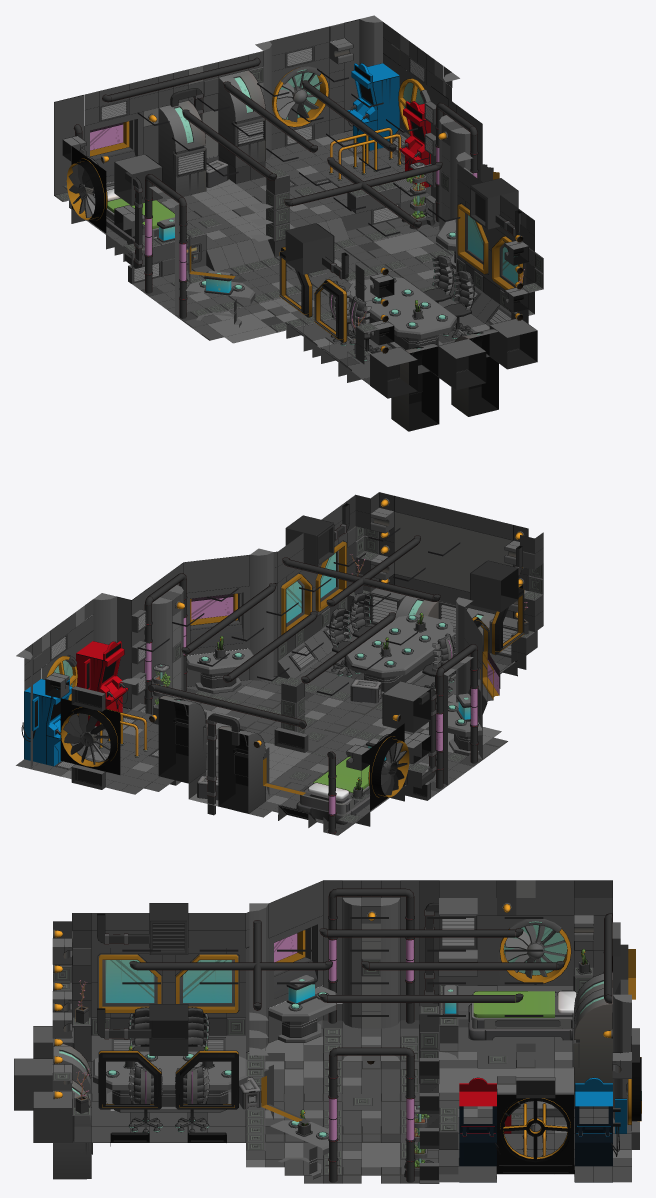
3 renders of one model, top to bottom at view 1: azimuth 30°, elevation 25°; view 2: azimuth 150°, elevation 25°; view 3: azimuth 270°, elevation 25°, orthographic. The views are drawn at different scales.
Parts seen in each view (by area): view 1: Ventilation1.010_108, Ventilation1.011_191, ArcadeBlue.004_229, Ventilation1.012_461, WIndow4.006_56, WIndow2.009_868, Ventilation2.031_463, Ventilation2.032_477, Ventilation2.029_437, Ventilation1.013_462, WIndow3.009_412, Ventilation2.033_478 (+33 smaller); view 2: Tile11.440_759, Ventilation1.011_191, Ventilation1.010_108, WIndow4.008_381, ArcadeBlue.004_229, ArcadeRed.002_230, Bed.003_5, WIndow2.009_868, Ventilation2.029_437, Tile10.210_383, Ventilation2.002_123, Tile11.442_761 (+43 smaller); view 3: Bed.003_5, WIndow3.006_409, WIndow3.008_411, WIndow2.010_870, ArcadeBlue.004_229, WIndow1.004_307, Ventilation1.011_191, WIndow4.009_384, ArcadeRed.002_230, Column.069_482, Column.068_481, Ventilation2.032_477 (+69 smaller).
Part boxes in pixels (left/top/right/bottom): Ventilation1.010_108: left=158, top=100, right=206, bottom=196; Ventilation1.011_191: left=218, top=70, right=265, bottom=168; ArcadeBlue.004_229: left=347, top=63, right=399, bottom=150; Ventilation1.012_461: left=391, top=343, right=439, bottom=431; WIndow4.006_56: left=84, top=111, right=143, bottom=182; WIndow2.009_868: left=272, top=57, right=329, bottom=133; Ventilation2.031_463: left=438, top=338, right=486, bottom=390; Ventilation2.032_477: left=489, top=318, right=537, bottom=369; Ventilation2.029_437: left=285, top=223, right=334, bottom=274; Ventilation1.013_462: left=451, top=329, right=498, bottom=416; WIndow3.009_412: left=457, top=195, right=491, bottom=282; Ventilation2.033_478: left=370, top=347, right=417, bottom=398; Tile11.440_759: left=394, top=511, right=513, bottom=592; Ventilation1.011_191: left=158, top=695, right=206, bottom=783; Ventilation1.010_108: left=218, top=726, right=265, bottom=813; WIndow4.008_381: left=186, top=586, right=249, bottom=655; ArcadeBlue.004_229: left=21, top=679, right=72, bottom=766; ArcadeRed.002_230: left=76, top=641, right=128, bottom=726; Bed.003_5: left=296, top=756, right=369, bottom=824; WIndow2.009_868: left=60, top=698, right=120, bottom=774; Ventilation2.029_437: left=470, top=560, right=518, bottom=612; Tile10.210_383: left=183, top=554, right=249, bottom=592; Ventilation2.002_123: left=382, top=681, right=430, bottom=732; Tile11.442_761: left=394, top=495, right=513, bottom=540; Bed.003_5: left=468, top=990, right=577, bottom=1040; WIndow3.006_409: left=91, top=948, right=168, bottom=1017; WIndow3.008_411: left=168, top=948, right=245, bottom=1017; WIndow2.010_870: left=497, top=915, right=574, bottom=985; ArcadeBlue.004_229: left=575, top=1077, right=626, bottom=1182; WIndow1.004_307: left=497, top=1094, right=574, bottom=1164; Ventilation1.011_191: left=572, top=987, right=612, bottom=1091; WIndow4.009_384: left=268, top=915, right=323, bottom=1007; ArcadeRed.002_230: left=459, top=1077, right=511, bottom=1182; Column.069_482: left=342, top=898, right=361, bottom=1028; Column.068_481: left=381, top=898, right=400, bottom=1028; Ventilation2.032_477: left=33, top=1091, right=74, bottom=1142.
Bounding box in the file's own units: 8.72 × 3.93 × 11.61.
1 material, 1 textured.
